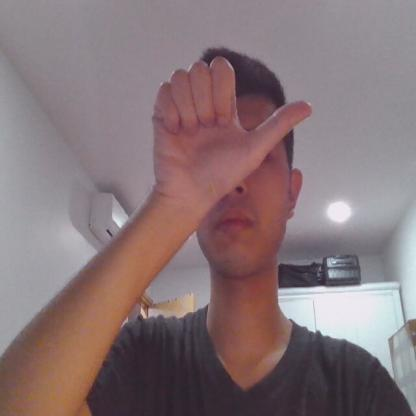left: (146, 54, 310, 188)
